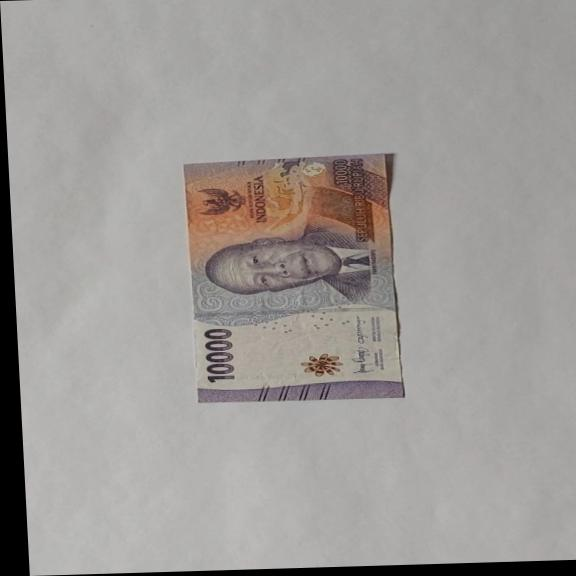Kertas: (180, 152, 406, 403), (200, 327, 237, 384)
